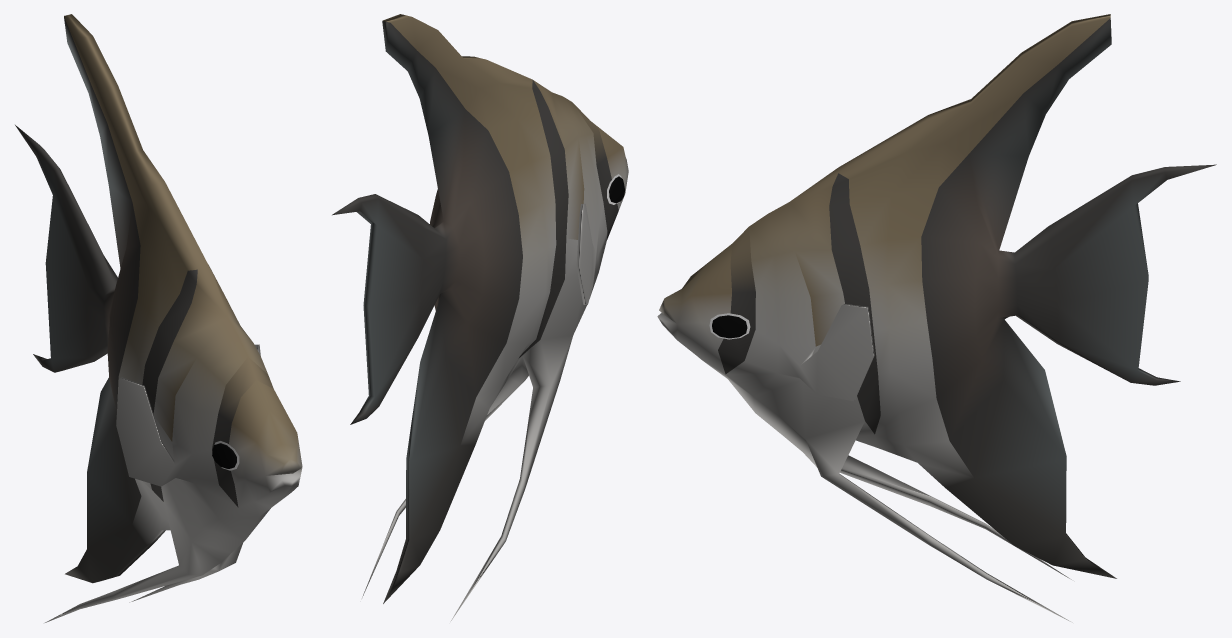
Rendered from underwater-fish-angelfish_v1.fbx.
3 views of the same model, side by side, from view 1: azimuth 30°, elevation 25°; view 2: azimuth 150°, elevation 25°; view 3: azimuth 270°, elevation 25° (orthographic). The views are drawn at different scales.
Parts seen in each view (by area): view 1: Angelfish_v1; view 2: Angelfish_v1; view 3: Angelfish_v1.
Part boxes in pixels (bbox=[...]): Angelfish_v1: bbox=[15, 14, 302, 622]; Angelfish_v1: bbox=[332, 14, 628, 621]; Angelfish_v1: bbox=[657, 14, 1216, 622].
Size of the model in its own units: 0.0377 by 0.15 by 0.1298.
